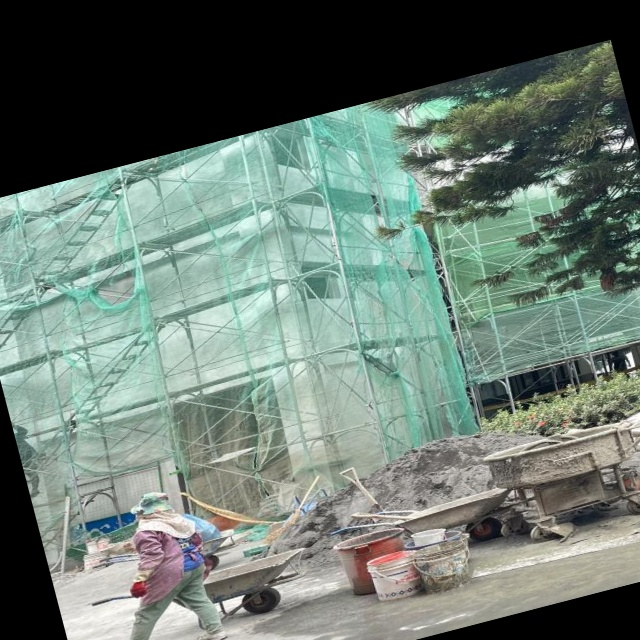Sin_Casco_Mascarrilla: (128, 488, 176, 524)
Sin_Chaleco: (132, 510, 213, 586)
